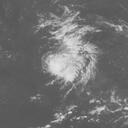cyclone: (40, 30, 100, 85)
